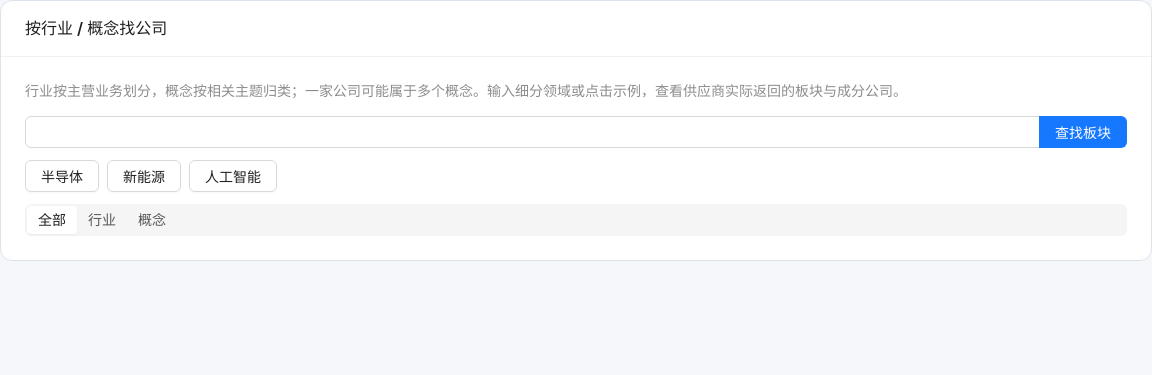
Test: DiscoverThemes：板块检索状态按关键词作用域（VS-39） › 当前关键词自己失败 ⇒ 显示它自己的错误原文；换词后新词的失败不带旧词的原文
Click the button "半导体": {"x": 62, "y": 176} [25,160,99,192]
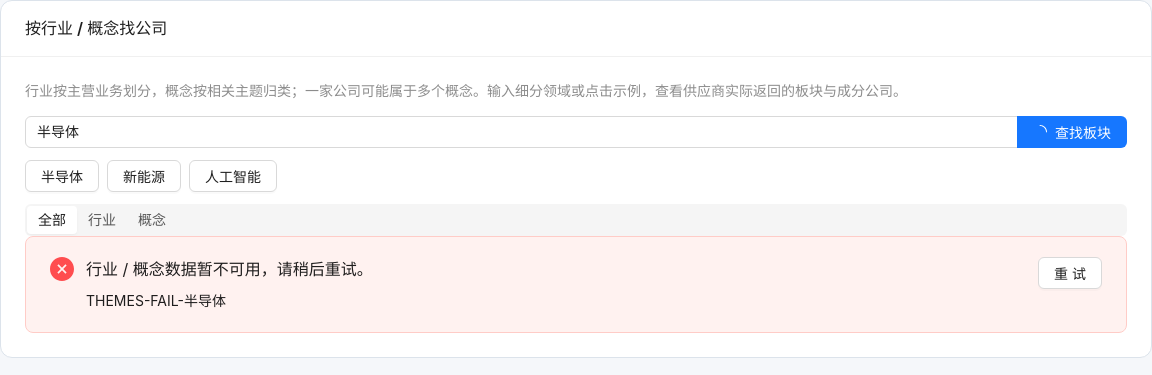
expect the text "THEMES-FAIL-半导体" is shown: met, box [86,292,226,309]
Click the button "新能源": {"x": 144, "y": 176} [107,160,181,192]
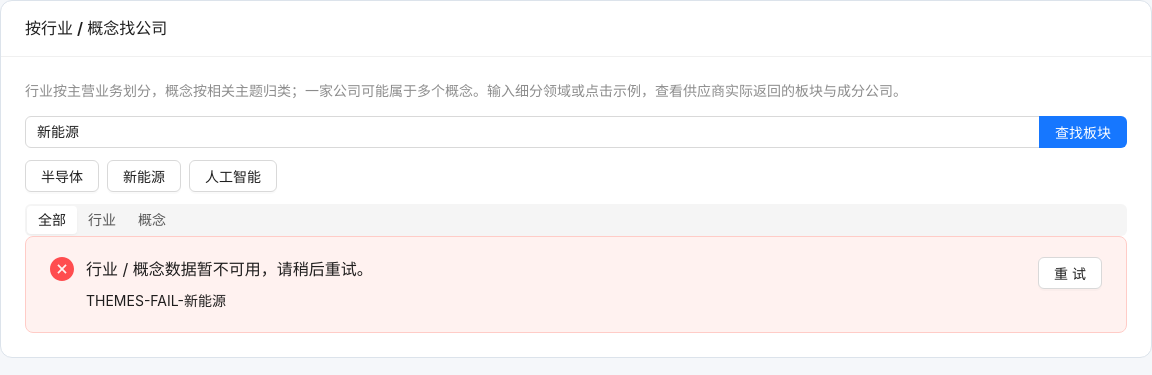
expect the text "THEMES-FAIL-新能源" is shown: met, box [86,292,226,309]
expect the text "THEMES-FAIL-半导体" is gone: met
